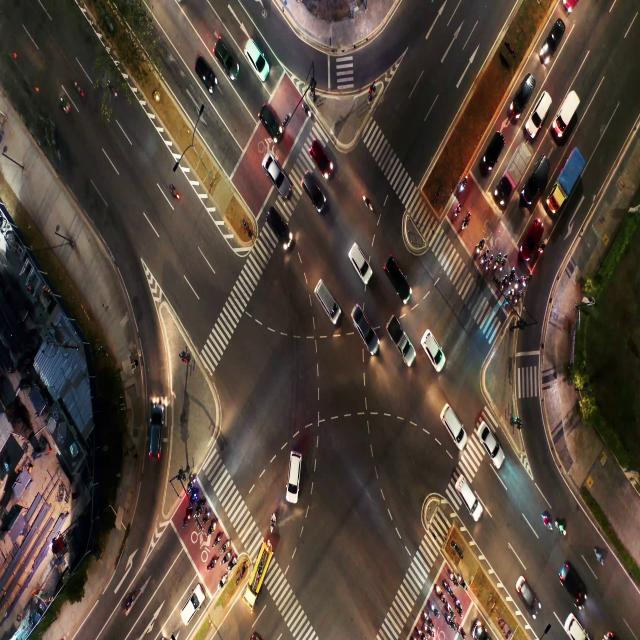bus: (257, 560, 263, 586)
car: (148, 408, 164, 444), (319, 285, 335, 313), (458, 484, 478, 505), (288, 455, 300, 488), (562, 559, 576, 587), (264, 110, 278, 137), (546, 28, 560, 54), (312, 146, 330, 166), (516, 87, 528, 113), (187, 592, 200, 614), (491, 136, 502, 162), (308, 182, 322, 200), (358, 316, 370, 335), (430, 336, 439, 360), (450, 414, 460, 435), (389, 266, 399, 286), (269, 162, 279, 181), (251, 45, 260, 66), (522, 575, 530, 597), (354, 258, 364, 274), (274, 220, 285, 234), (484, 438, 495, 452), (538, 100, 546, 118), (538, 167, 544, 186), (219, 49, 229, 60), (530, 228, 536, 244), (201, 60, 207, 75)
motorcycle: (74, 83, 86, 98), (544, 514, 552, 534), (170, 183, 180, 198), (112, 83, 119, 103), (60, 96, 68, 112), (125, 592, 133, 606), (523, 273, 531, 286), (363, 198, 371, 210), (596, 548, 602, 564), (477, 239, 484, 252), (186, 511, 192, 526), (444, 585, 452, 596), (461, 175, 466, 192), (458, 598, 463, 615), (494, 255, 500, 267), (218, 577, 224, 588), (305, 108, 311, 119), (500, 278, 506, 288), (190, 491, 195, 502), (205, 513, 210, 524), (483, 251, 488, 262), (432, 604, 438, 613), (271, 516, 275, 528), (455, 205, 459, 217), (465, 214, 469, 226), (541, 239, 545, 251), (514, 282, 519, 291), (501, 258, 504, 272), (210, 559, 214, 569), (223, 542, 227, 552), (509, 270, 514, 278), (516, 292, 520, 302), (462, 578, 466, 588), (448, 603, 452, 613), (449, 620, 454, 628), (459, 626, 464, 634), (418, 628, 422, 638), (198, 504, 202, 513), (509, 290, 513, 299), (437, 584, 440, 596), (426, 627, 431, 634), (189, 478, 193, 486), (222, 555, 226, 563), (427, 612, 431, 620), (210, 524, 213, 533), (453, 575, 456, 584), (489, 258, 492, 266), (230, 559, 232, 570), (217, 534, 219, 543)
truck: (564, 165, 574, 191), (562, 102, 572, 125), (514, 157, 522, 182)
